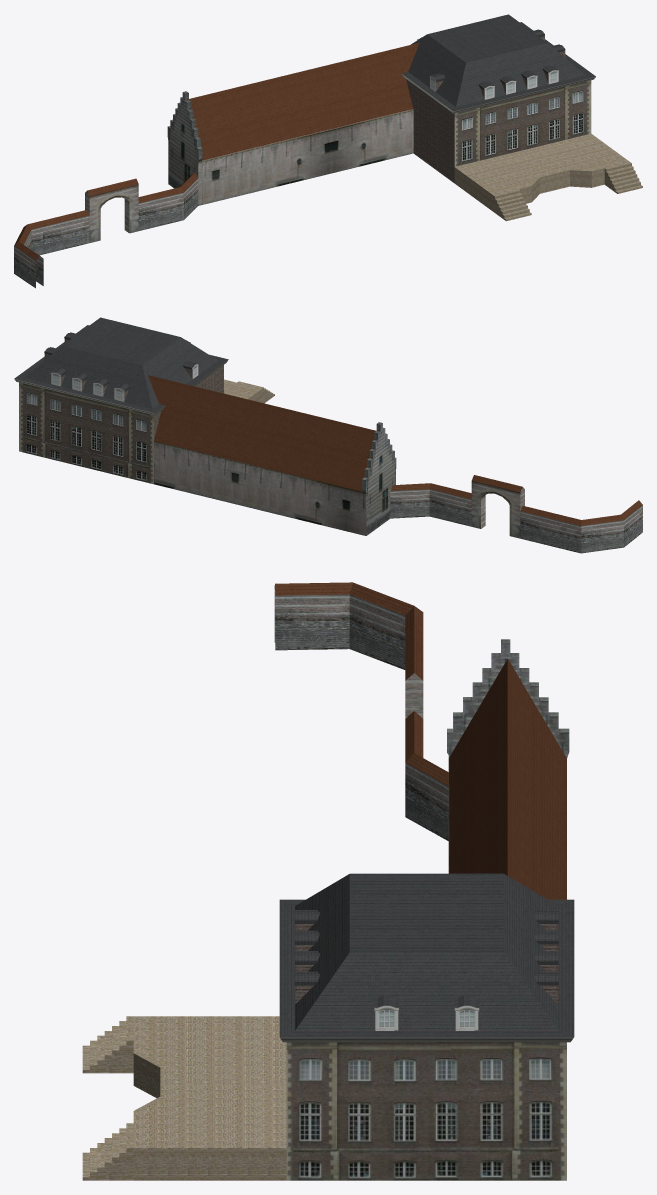
Rendered from house_obj2.obj.
3 views of the same model, one above another, from view 1: azimuth 30°, elevation 25°; view 2: azimuth 150°, elevation 25°; view 3: azimuth 270°, elevation 25° (orthographic). The views are drawn at different scales.
Visible parts, largest first — view 1: polySurface1; view 2: polySurface1; view 3: polySurface1.
Part boxes in pixels (x1,y1,x2,y2): polySurface1: (14,14,642,288); polySurface1: (14,317,642,553); polySurface1: (82,582,574,1180).
Bounding box in the file's own units: 7142 × 1242 × 2736.
Materials: 1 (1 with a texture image).
